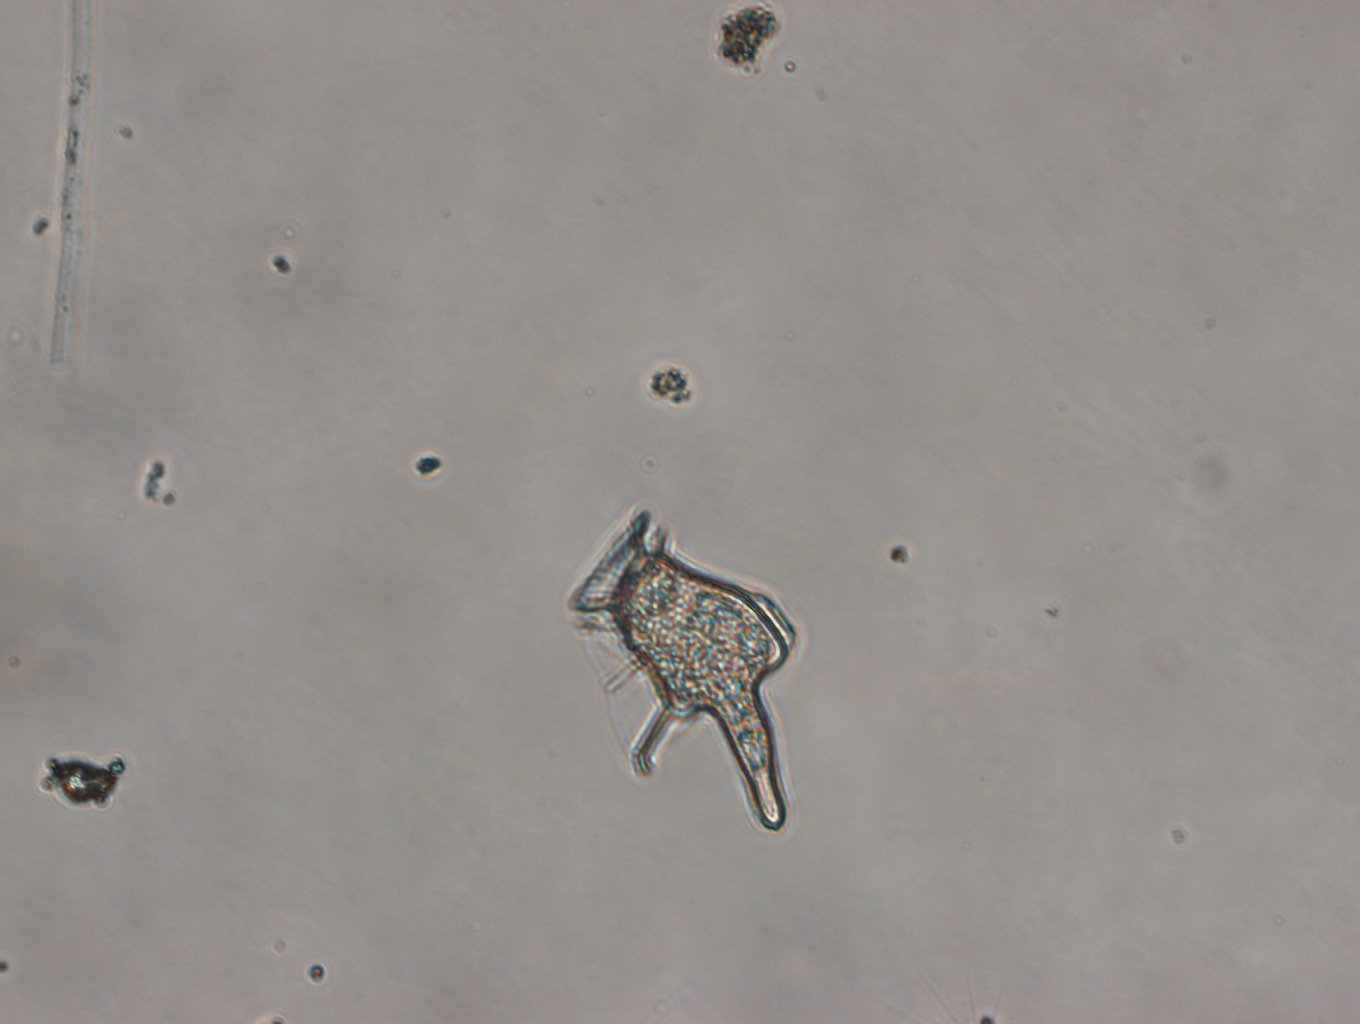dinophysis caudata: (564, 508, 805, 831)
